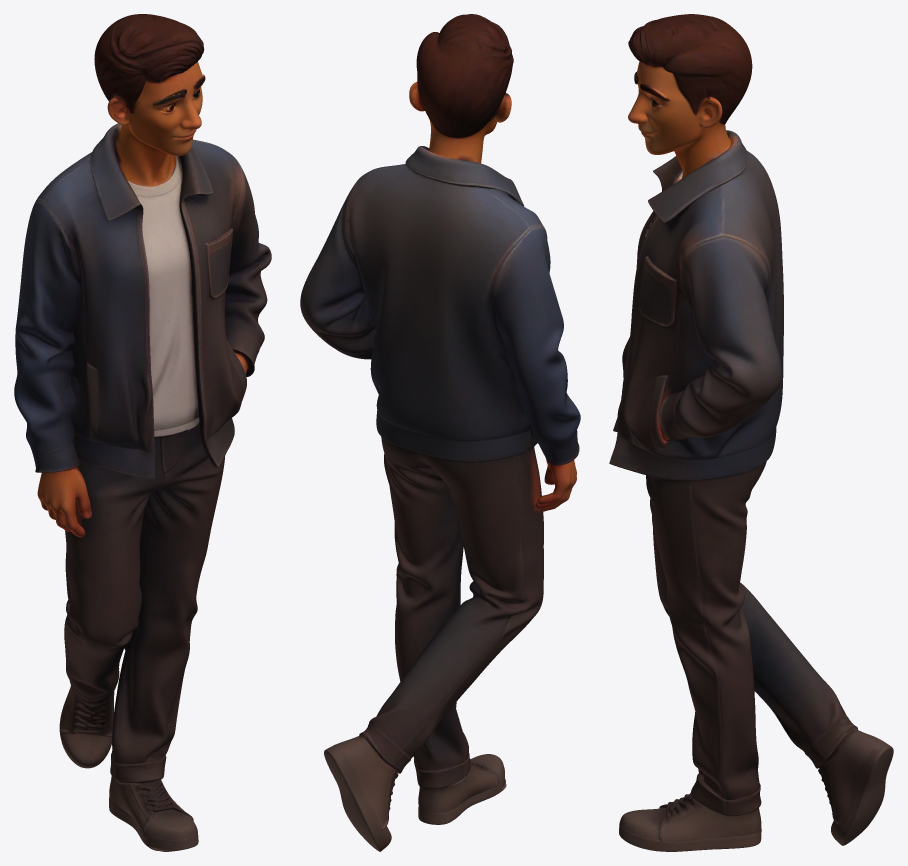
Rendered from agent-16.glb.
3 views of the same model, side by side, from view 1: azimuth 30°, elevation 25°; view 2: azimuth 150°, elevation 25°; view 3: azimuth 270°, elevation 25° (orthographic). The views are drawn at different scales.
Parts seen in each view (by area): view 1: material; view 2: material; view 3: material.
Part boxes in pixels (bbox=[...]): material: bbox=[14, 14, 271, 851]; material: bbox=[300, 14, 580, 851]; material: bbox=[609, 14, 893, 851].
Size of the model in its own units: 0.3973 by 1.17 by 0.367.
Materials: 1 (1 with a texture image).
